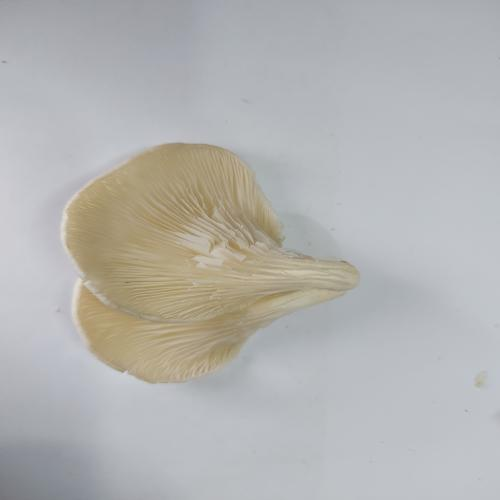Oyster Mushroom: (59, 141, 361, 384)
